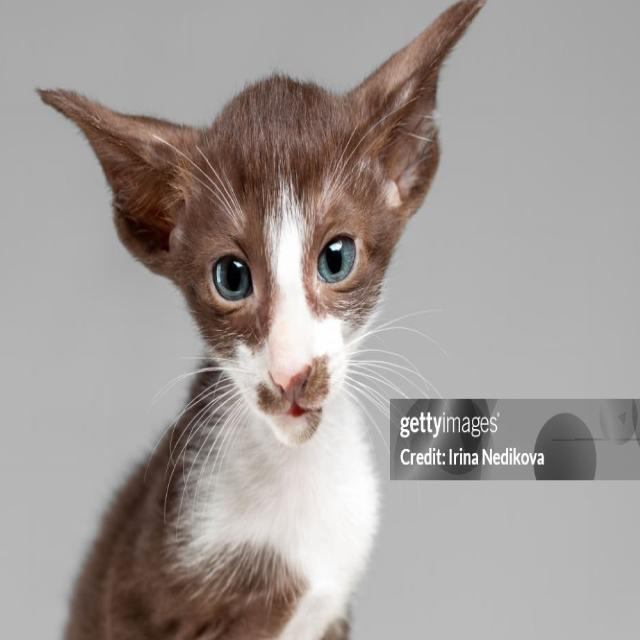Oriental: (31, 0, 494, 640)
